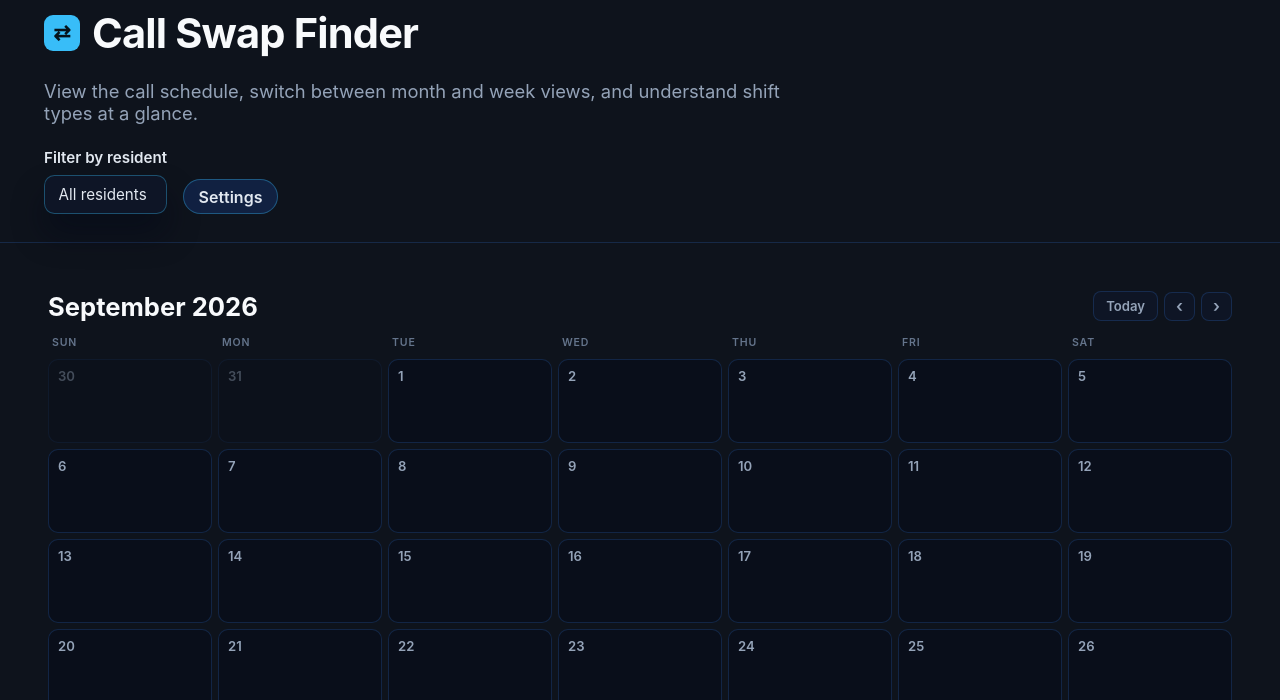
Test: App side panel selection › lists swap candidates when requesting swaps for a shift
Select "All residents" in the dropdown labelled "Filter by resident": (106, 195) [44,175,167,214]
(page scrolled)
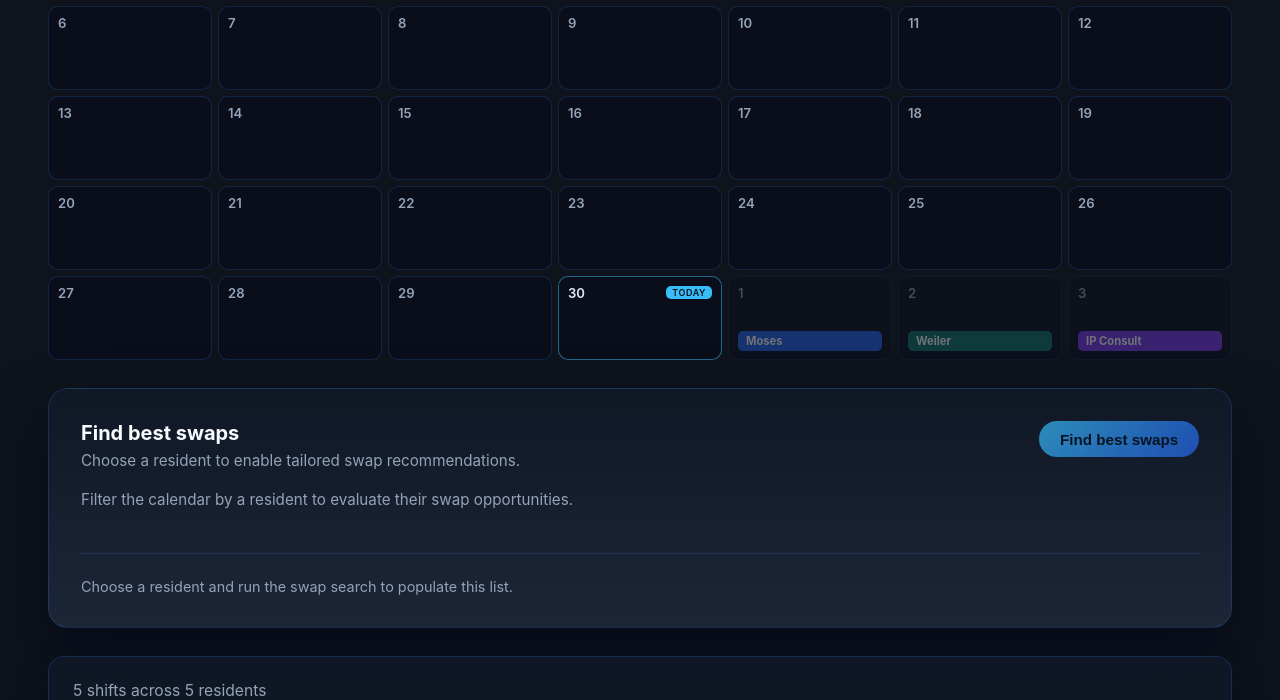
Click the button with aria-label "shift on Oct 1, 2026": (810, 341) [738,331,882,351]
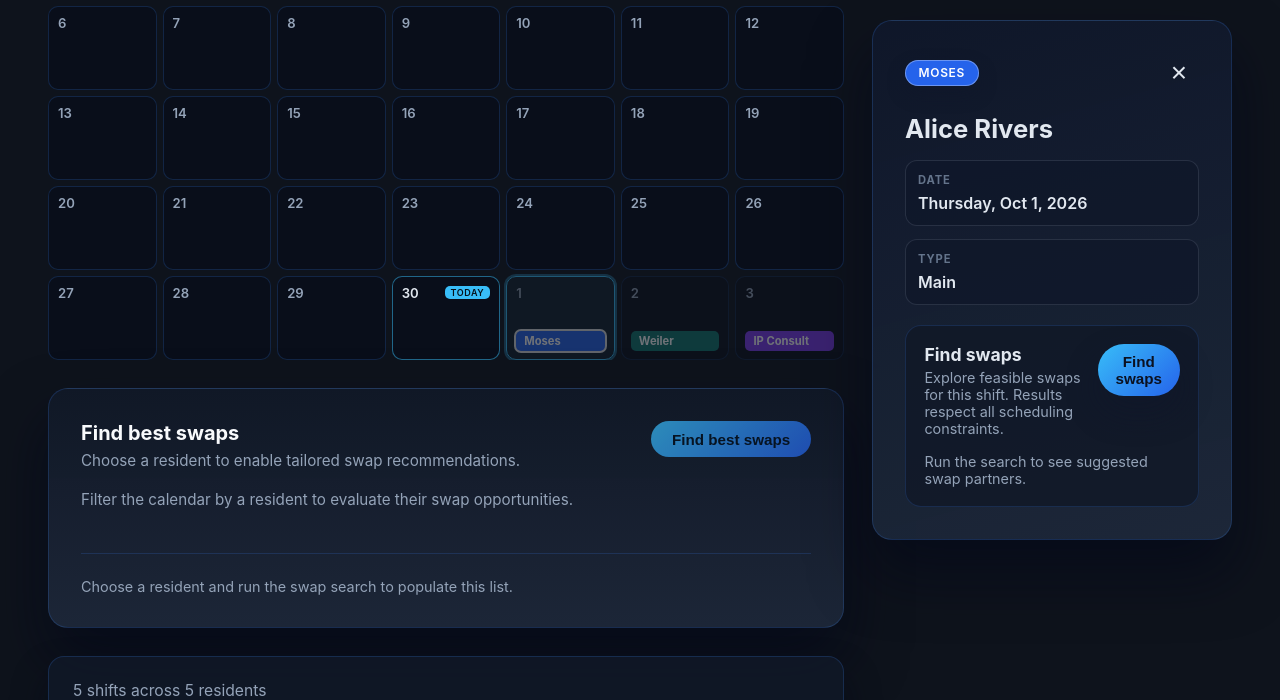
Result: the heading "Alice Rivers" is shown at [905,113,1053,144]
Click the button "Find swaps": (1139, 370) [1098,344,1180,396]
(page scrolled)
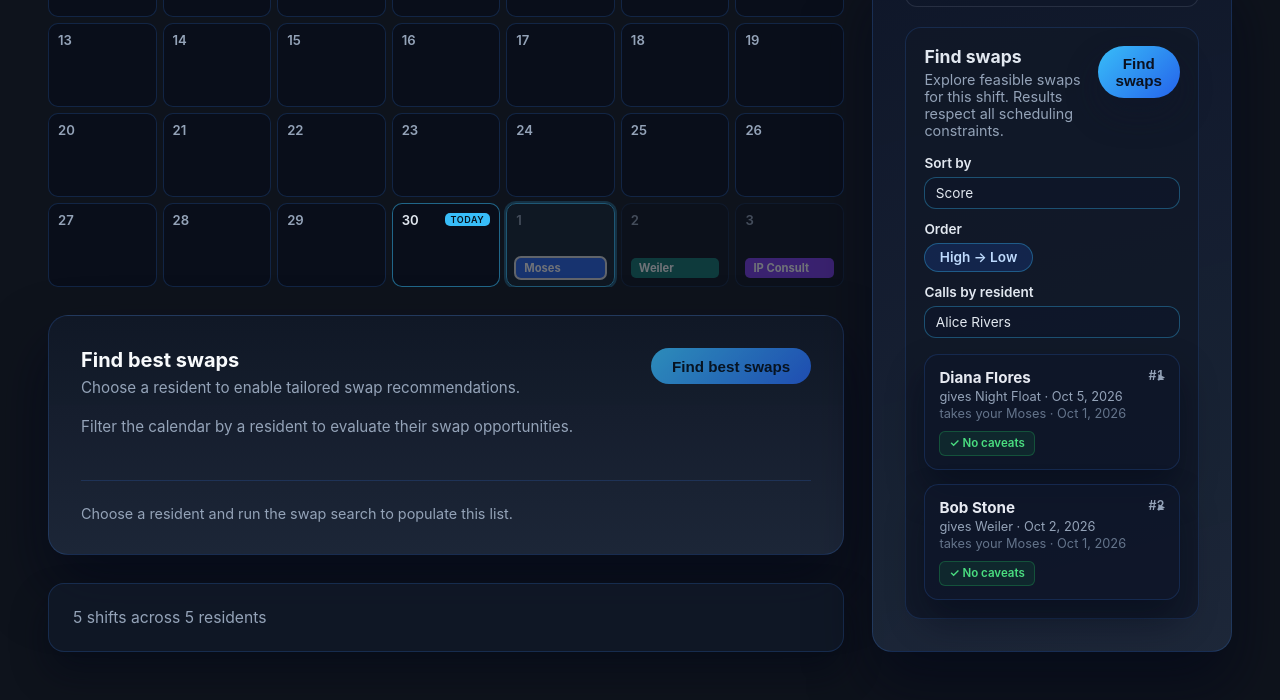
Result: the number of list items is 2
Result: the button with aria-label "Swap with Diana Flores on Oct 5, 2026" shows "Diana Flores"
Result: the button with aria-label "Swap with Diana Flores on Oct 5, 2026" shows "#1"
Click the button with aria-label "Swap with Diana Flores on Oct 5, 2026": (1052, 412) [925,354,1179,469]
(page scrolled)
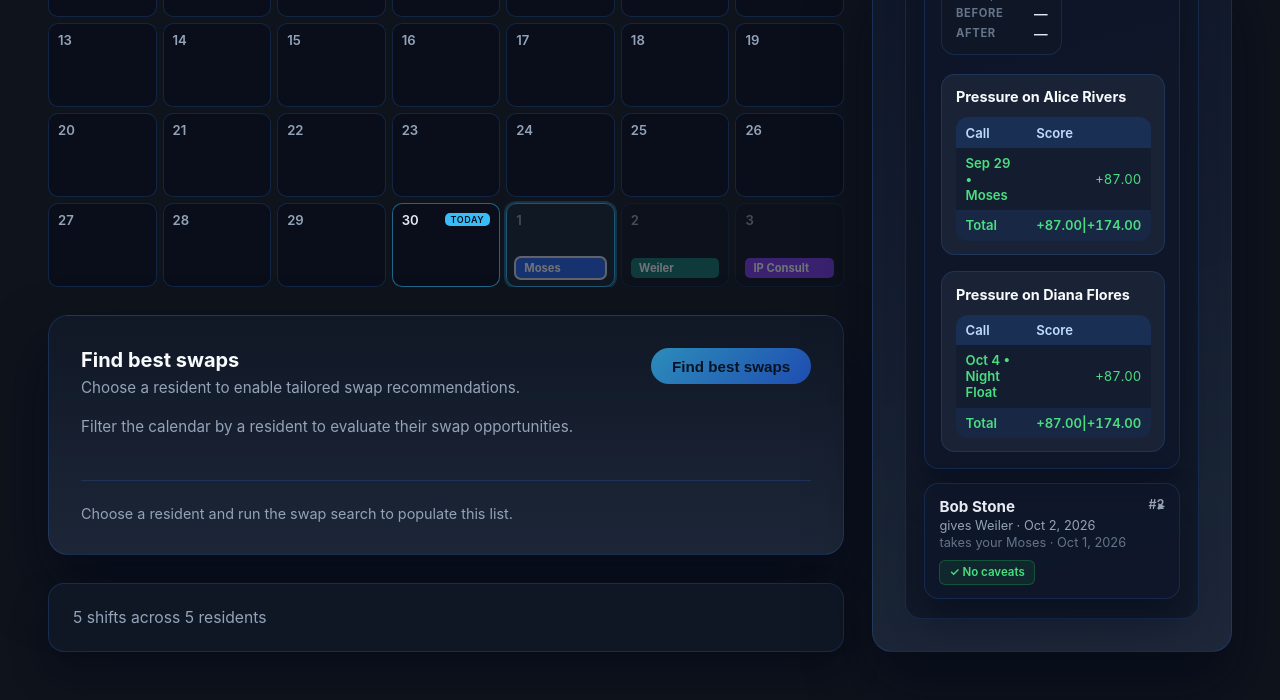
Result: the column heading "Total" below "Sep 29 • Moses" is shown at [966,217,997,233]
Result: the text "Before" is shown 2 times
Result: the text "After" is shown 2 times
